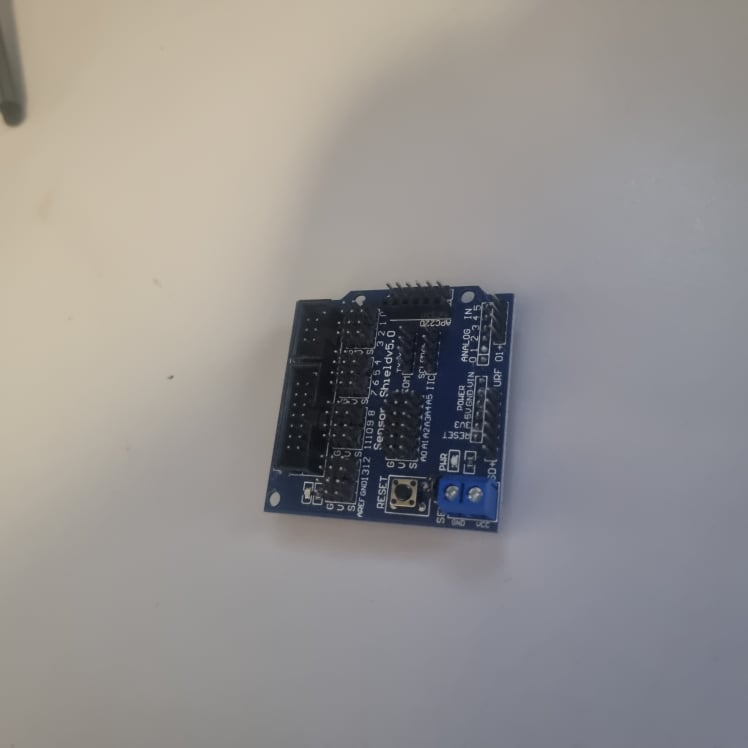5V EXPANSION: (263, 287, 515, 532)
